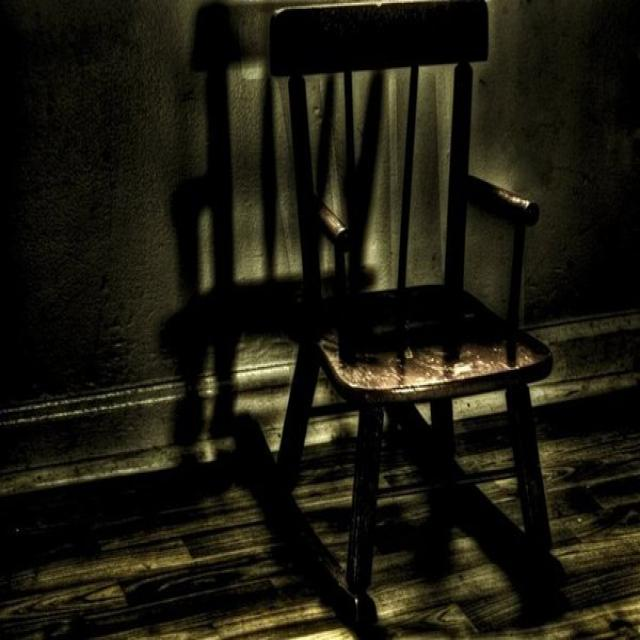chair: (267, 0, 572, 640)
